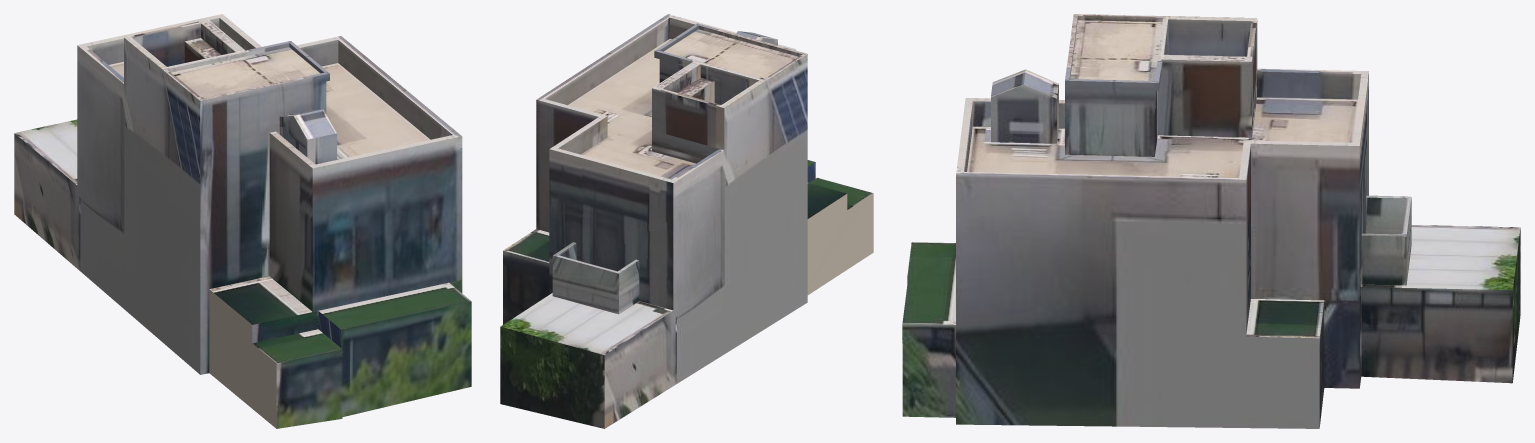
3 renders of one model, left to right at view 1: azimuth 30°, elevation 25°; view 2: azimuth 150°, elevation 25°; view 3: azimuth 270°, elevation 25°, orthographic. The views are drawn at different scales.
Parts seen in each view (by area): view 1: B283704030501062A0; view 2: B283704030501062A0; view 3: B283704030501062A0.
Part boxes in pixels (x1,y1,x2,y2): B283704030501062A0: (14, 14, 471, 428); B283704030501062A0: (500, 14, 873, 428); B283704030501062A0: (902, 14, 1520, 428).
Bounding box in the file's own units: 9.34 × 11.13 × 20.57.
Materials: 1 (1 with a texture image).
